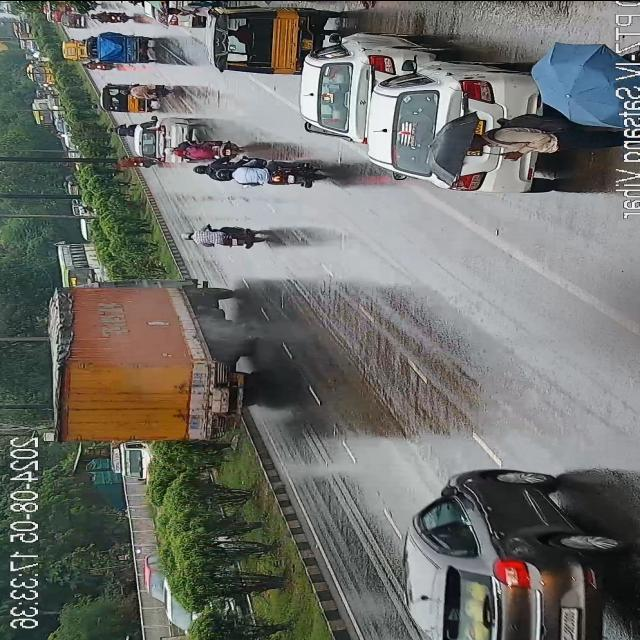2-wheelers: (218, 158, 322, 188), (188, 224, 268, 250), (165, 144, 242, 162)
auto: (211, 11, 317, 73), (98, 32, 152, 66), (100, 83, 156, 113)
bus: (62, 240, 117, 292)
car: (424, 475, 614, 640), (374, 67, 540, 197), (307, 40, 389, 138), (168, 569, 226, 640), (142, 549, 176, 603), (138, 0, 199, 30), (141, 118, 182, 162), (121, 442, 165, 480)
pedestrian: (448, 122, 640, 152), (182, 0, 274, 4)
truck: (49, 283, 250, 437)
